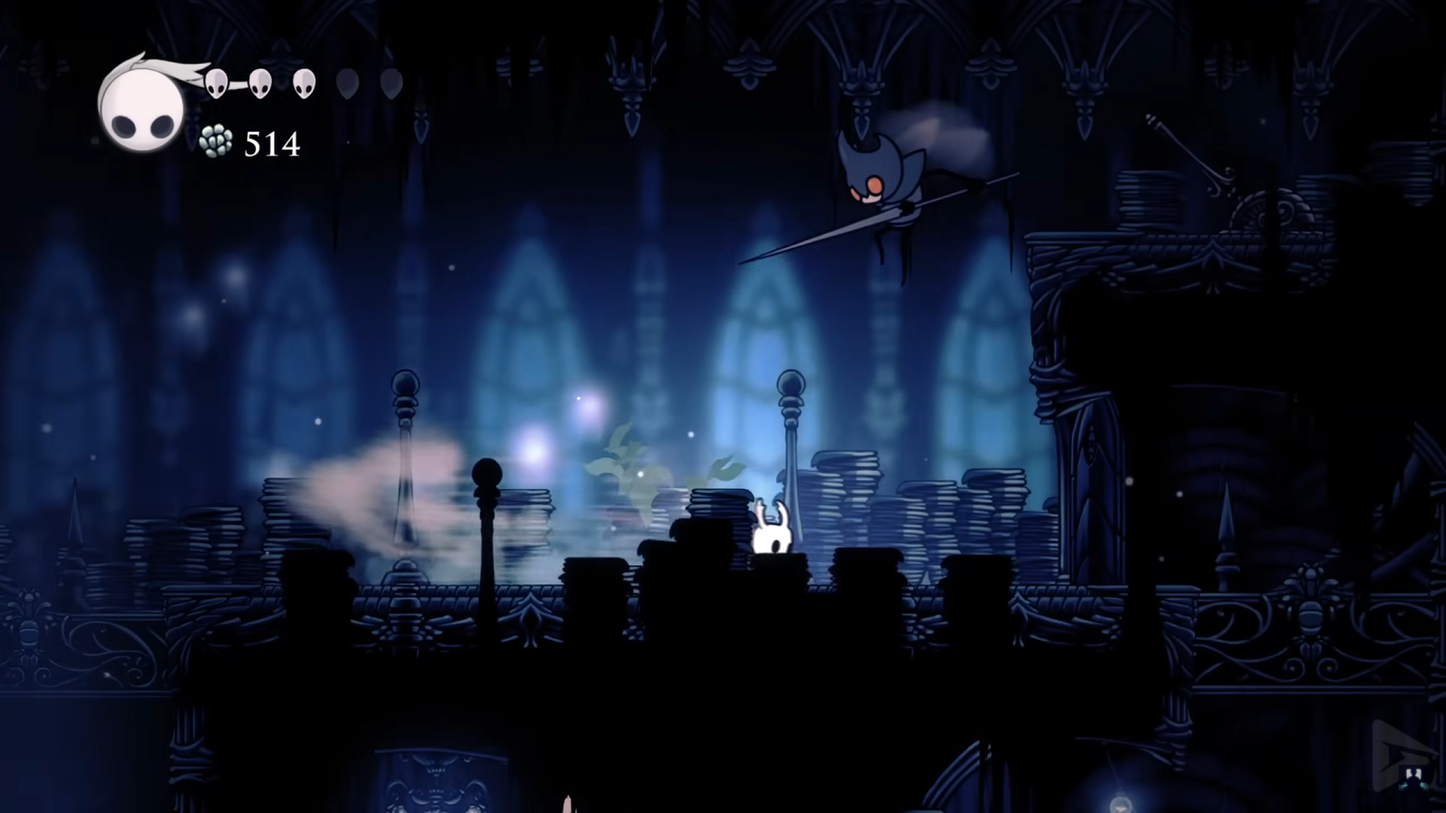HK: (749, 496, 797, 557)
